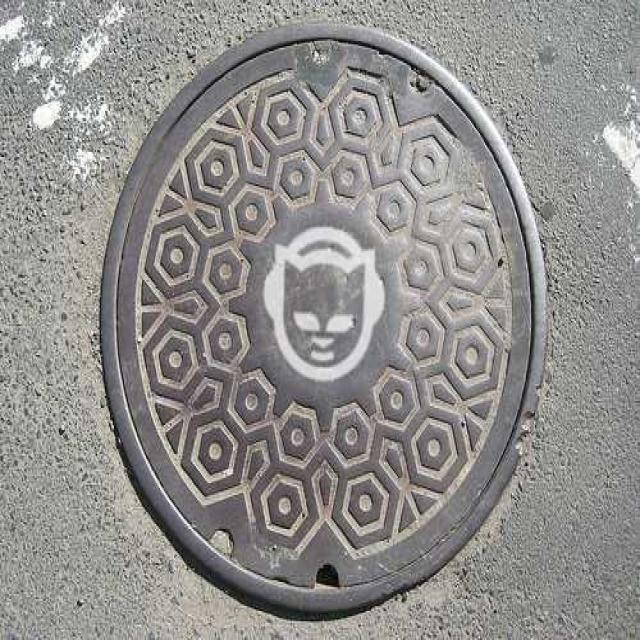manhole: (101, 23, 545, 614)
